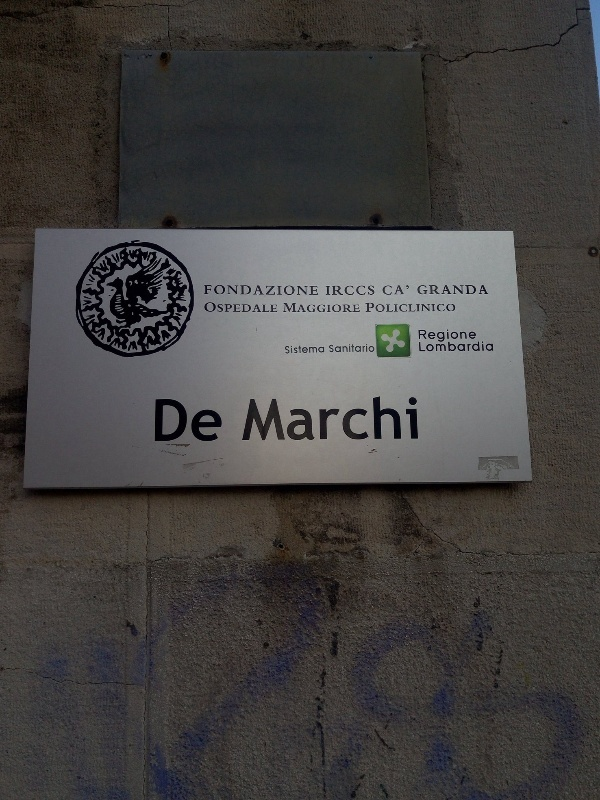text: (161, 396, 176, 445), (177, 396, 192, 445), (193, 396, 208, 445), (209, 396, 224, 445), (257, 396, 272, 442), (273, 396, 288, 442), (289, 396, 304, 442), (305, 396, 320, 442), (321, 396, 336, 442), (337, 396, 352, 442), (353, 396, 368, 442), (369, 396, 384, 442), (385, 396, 400, 442), (401, 396, 416, 442), (250, 396, 256, 442), (155, 396, 160, 445), (433, 329, 448, 343), (449, 329, 464, 343), (209, 284, 224, 297), (225, 284, 240, 297), (241, 284, 256, 297), (257, 284, 272, 297), (273, 284, 288, 297), (289, 284, 304, 297), (419, 329, 432, 343), (337, 285, 352, 297), (353, 285, 368, 297), (385, 284, 400, 296), (305, 284, 318, 297), (465, 329, 477, 343), (433, 285, 448, 296), (449, 285, 464, 296), (465, 285, 480, 296), (209, 302, 224, 313), (225, 302, 240, 313), (241, 302, 256, 313), (257, 302, 272, 313), (433, 341, 448, 352), (449, 341, 464, 352), (465, 341, 480, 352), (418, 285, 432, 296), (289, 303, 304, 313), (305, 303, 320, 313), (321, 303, 336, 313), (337, 303, 352, 313), (369, 303, 384, 313), (385, 303, 400, 313), (401, 303, 416, 313), (417, 303, 432, 313), (433, 303, 448, 313), (289, 345, 304, 355), (305, 345, 320, 355), (419, 341, 432, 352), (481, 341, 494, 352), (337, 344, 352, 353), (353, 344, 368, 353), (326, 285, 336, 297), (401, 284, 409, 296), (417, 396, 419, 442), (481, 285, 489, 296), (369, 285, 375, 297), (353, 303, 360, 313), (449, 303, 456, 313), (329, 344, 336, 353), (273, 302, 278, 313), (369, 344, 375, 353), (204, 284, 208, 297), (284, 303, 288, 313), (321, 345, 325, 355), (205, 302, 208, 313), (285, 345, 288, 355), (366, 303, 368, 313), (383, 284, 384, 296)
